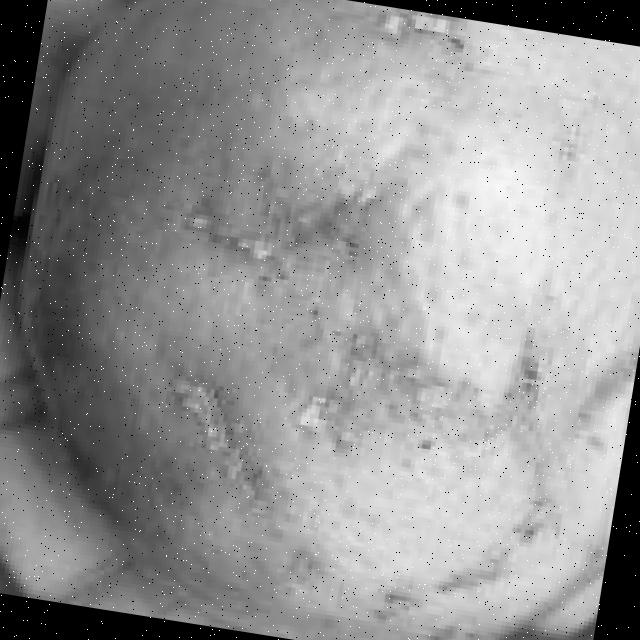Bad_Orange-0-1 day: (11, 0, 640, 640)
